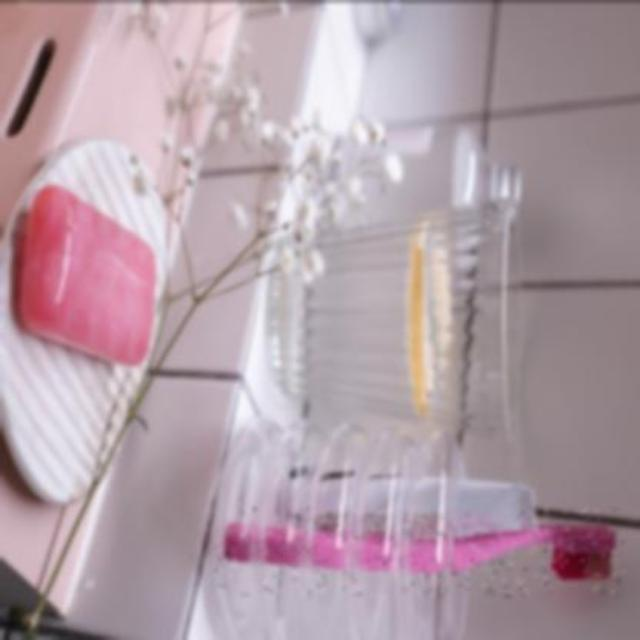toothbrush: (216, 506, 624, 596)
